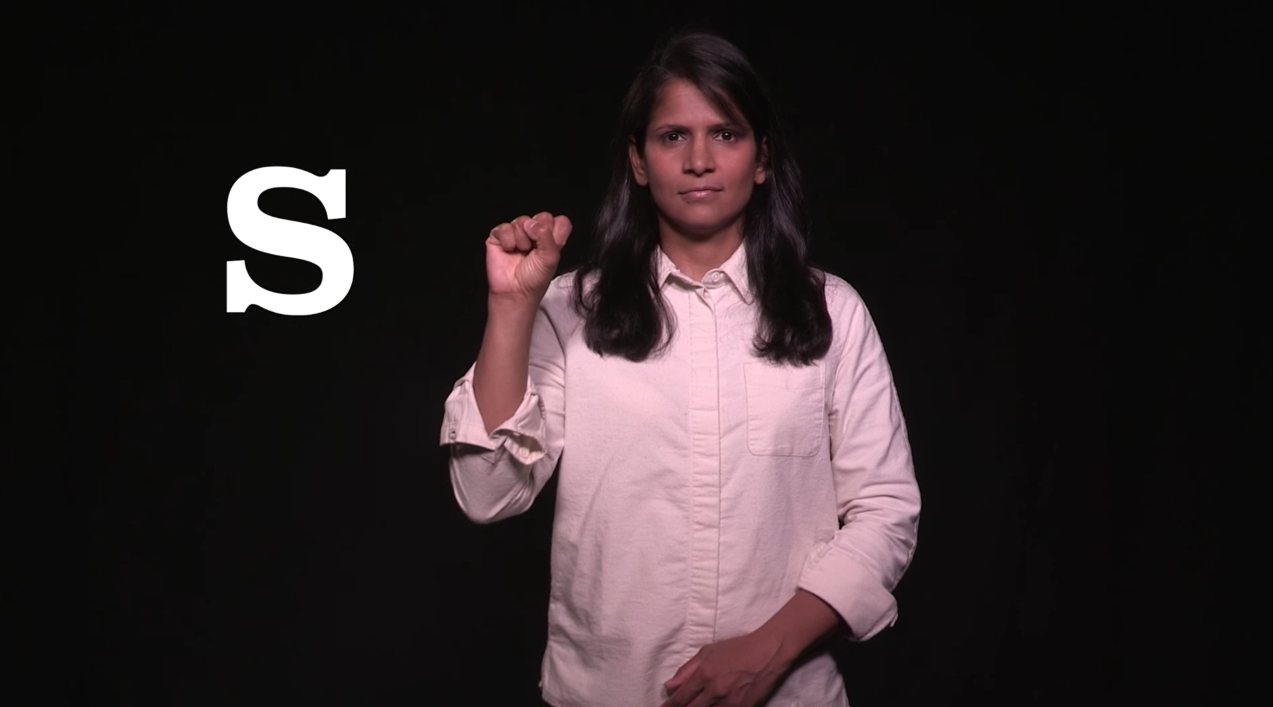s: (474, 192, 583, 320)
